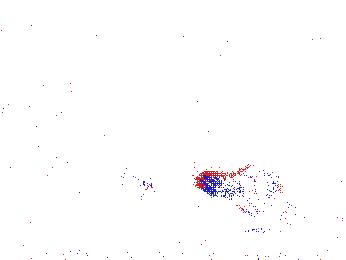flame jellyfish: (197, 164, 283, 218), (275, 171, 346, 227), (93, 146, 155, 201)
